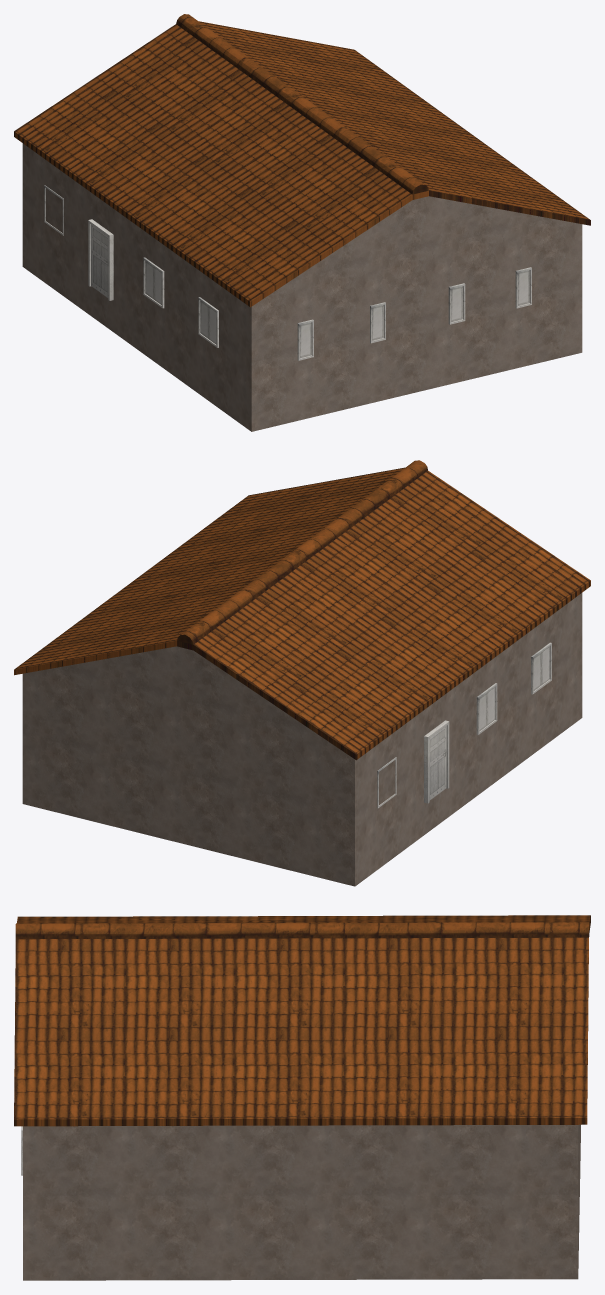
Rendered from Casa_21.fbx.
The picture shows the model from 3 angles, top to bottom: view 1: azimuth 30°, elevation 25°; view 2: azimuth 150°, elevation 25°; view 3: azimuth 270°, elevation 25°; orthographic projection. The views are drawn at different scales.
Visible parts, largest first — view 1: Casa_21; view 2: Casa_21; view 3: Casa_21.
Part boxes in pixels (x1,y1,x2,y2): Casa_21: (14,14,590,431); Casa_21: (14,460,590,886); Casa_21: (14,915,590,1280).
Bounding box in the file's own units: 10.96 × 6.45 × 13.09.
